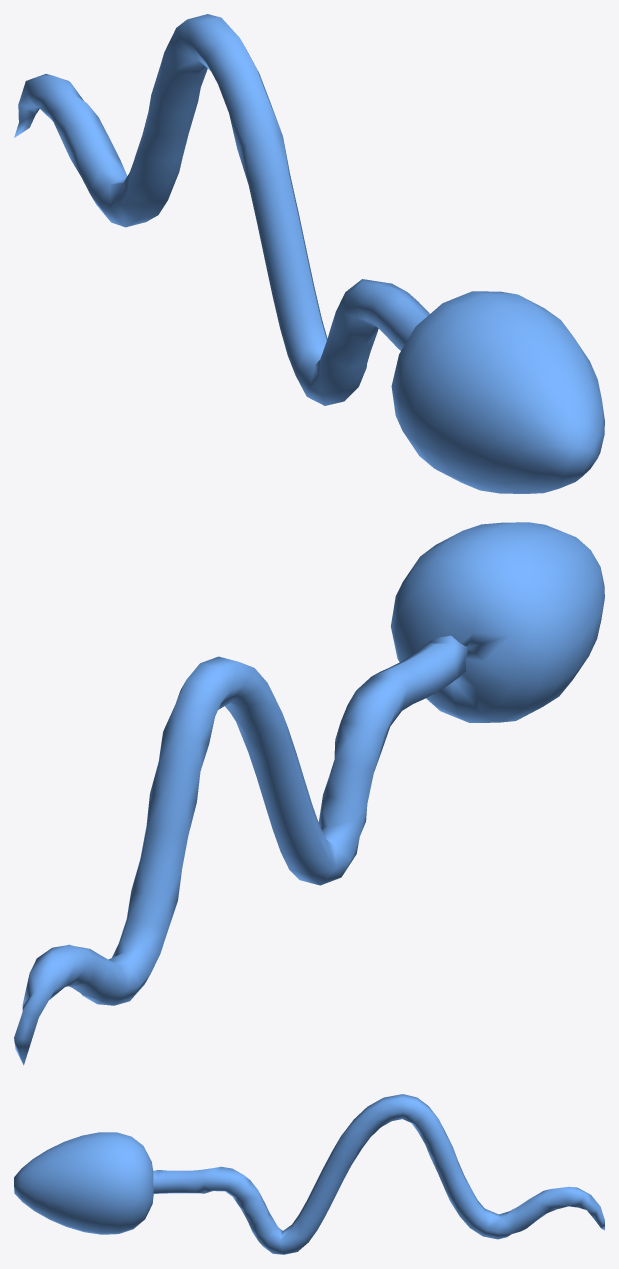
Rendered from spermato_m790.obj.
3 renders of one model, top to bottom at view 1: azimuth 30°, elevation 25°; view 2: azimuth 150°, elevation 25°; view 3: azimuth 270°, elevation 25°, orthographic. The views are drawn at different scales.
Parts seen in each view (by area): view 1: BezierCurve; view 2: BezierCurve; view 3: BezierCurve.
Boxes of the visible parts, x1=… form: BezierCurve: x1=14, y1=14, x2=604, y2=493; BezierCurve: x1=14, y1=522, x2=604, y2=1065; BezierCurve: x1=14, y1=1094, x2=604, y2=1254.
Size of the model in its own units: 25.56 by 43.37 by 147.
